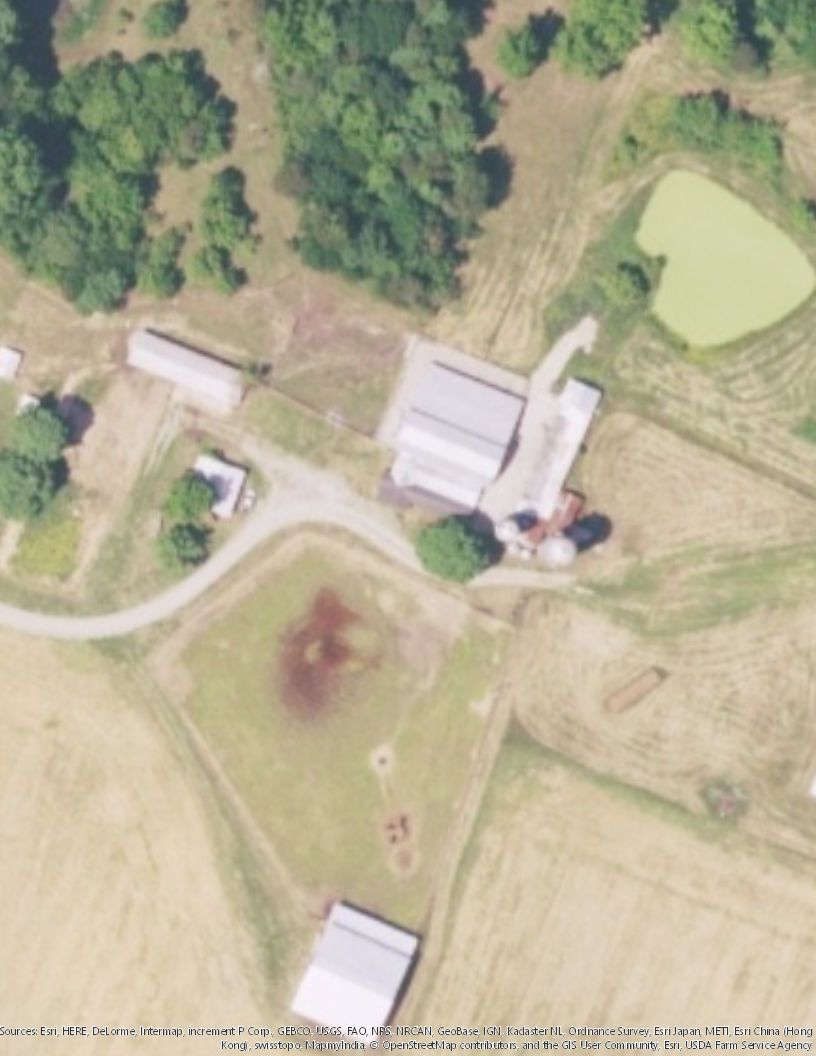cafo: (280, 890, 419, 1051), (123, 325, 255, 419)
